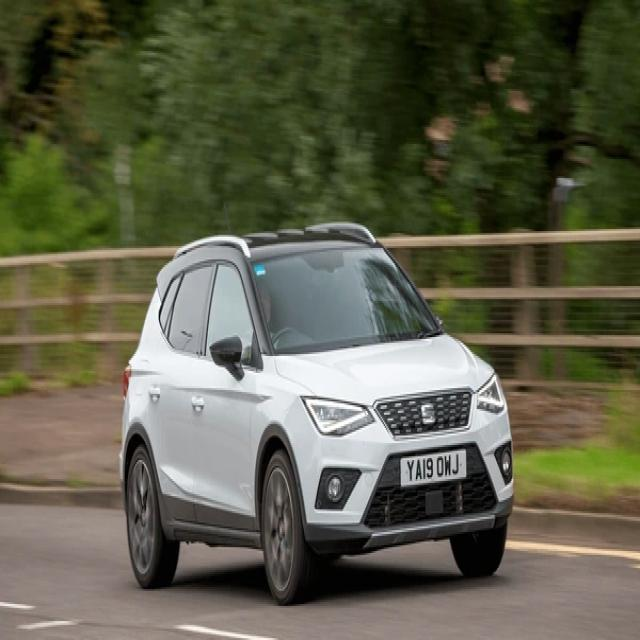seat: (419, 400, 439, 428)
